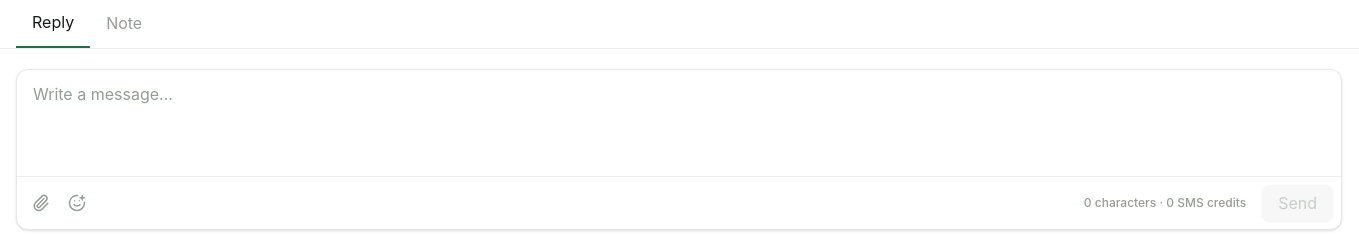
Test: ManualComposer › allows a one-credit message to reach exactly the safety cap
Type "Short message" into the text box labelled "Write a message" at (679, 120), box 17,70 -> 1341,170
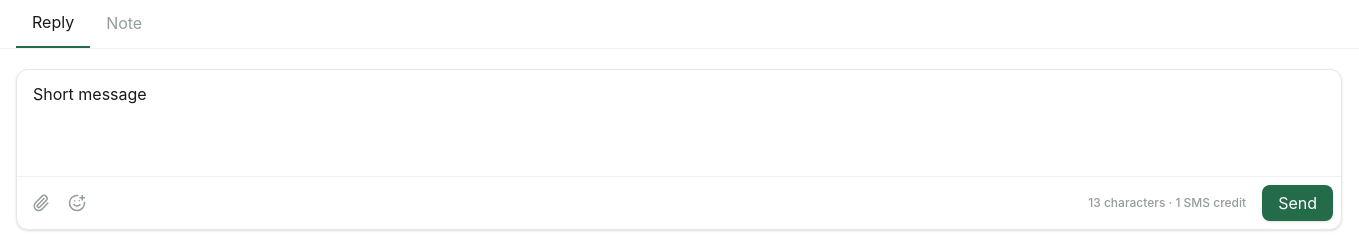
Expected: the button "Send" is enabled, 1262,185 -> 1333,221
Expected: the text "13 characters · 1 SMS credit" is shown, 1088,194 -> 1246,212
